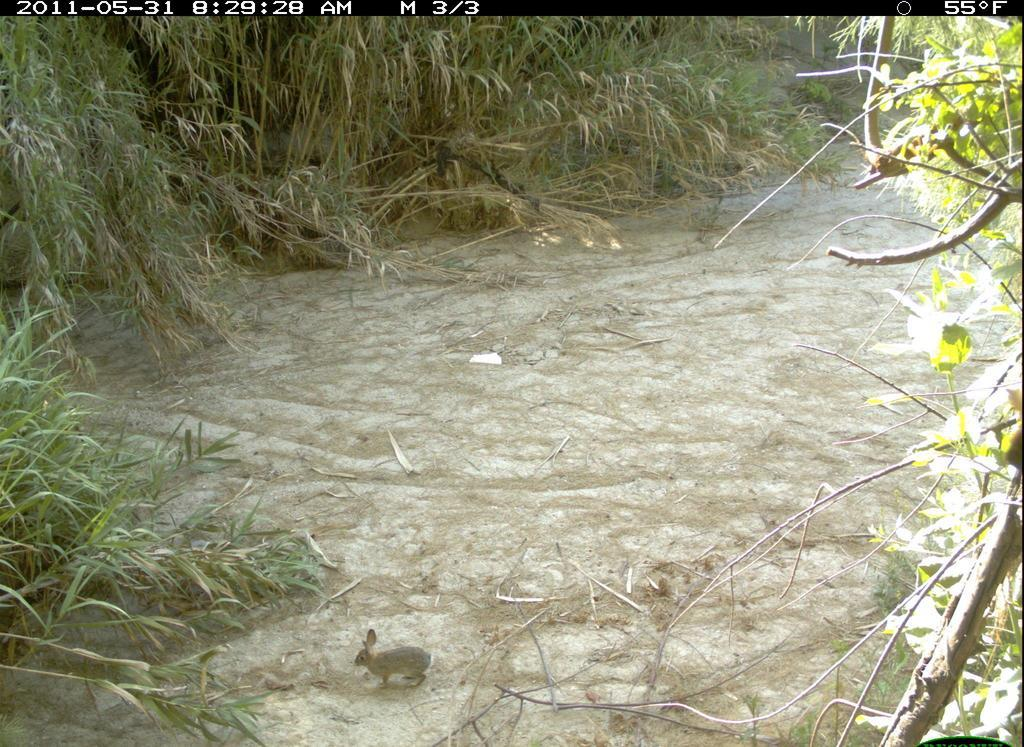rabbit: (346, 623, 466, 706)
